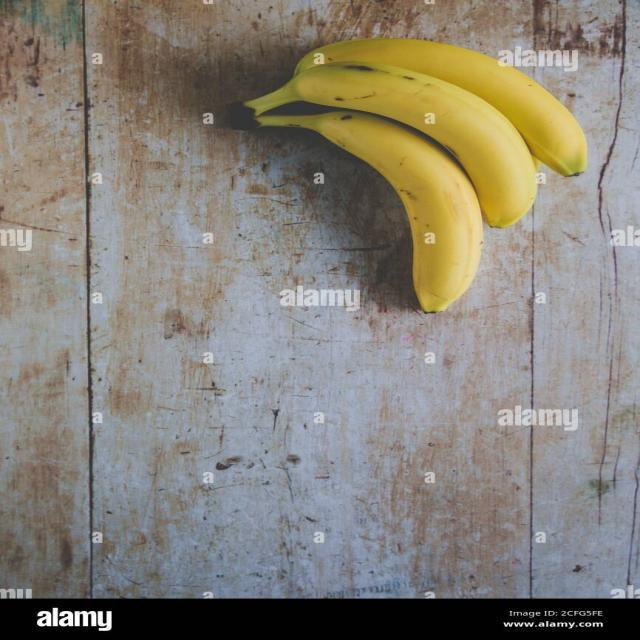Banana: (210, 29, 602, 318)
